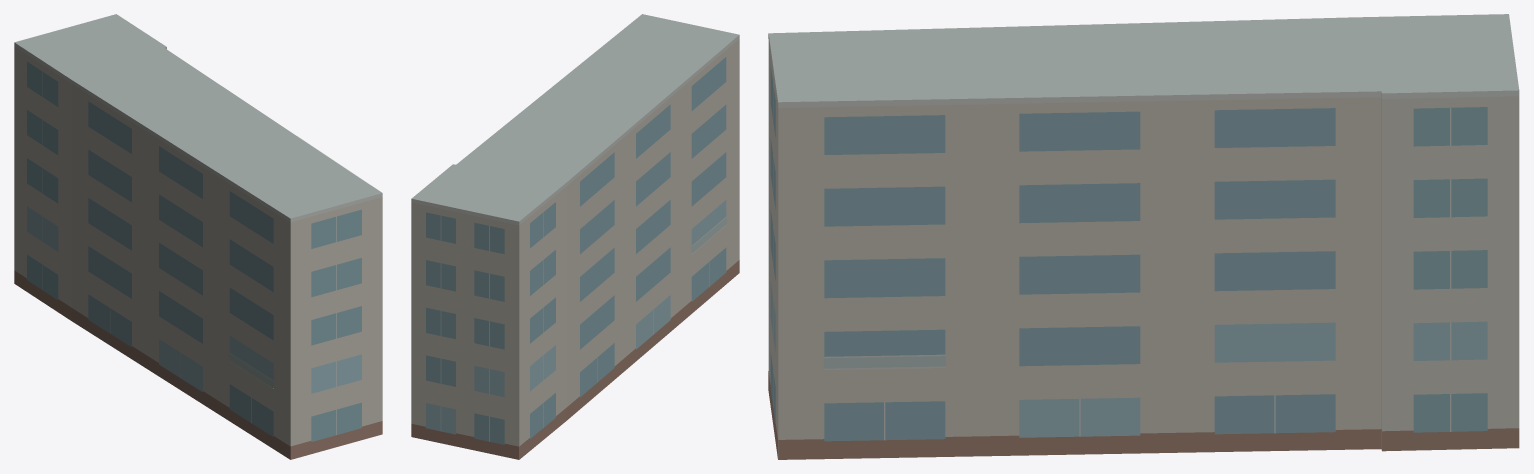
Rendered from survey-upis-32640308.glb.
3 views of the same model, side by side, from view 1: azimuth 30°, elevation 25°; view 2: azimuth 150°, elevation 25°; view 3: azimuth 270°, elevation 25° (orthographic). The views are drawn at different scales.
Visible parts, largest first — view 1: survey-upis-32640308.tmp; view 2: survey-upis-32640308.tmp; view 3: survey-upis-32640308.tmp.
Boxes of the visible parts, x1,y1,x2,y2 form: survey-upis-32640308.tmp: (14, 14, 382, 459); survey-upis-32640308.tmp: (411, 14, 739, 459); survey-upis-32640308.tmp: (768, 14, 1519, 459).
Size of the model in its own units: 8.07 by 15.25 by 29.02.
